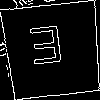E: (27, 25, 66, 75)
